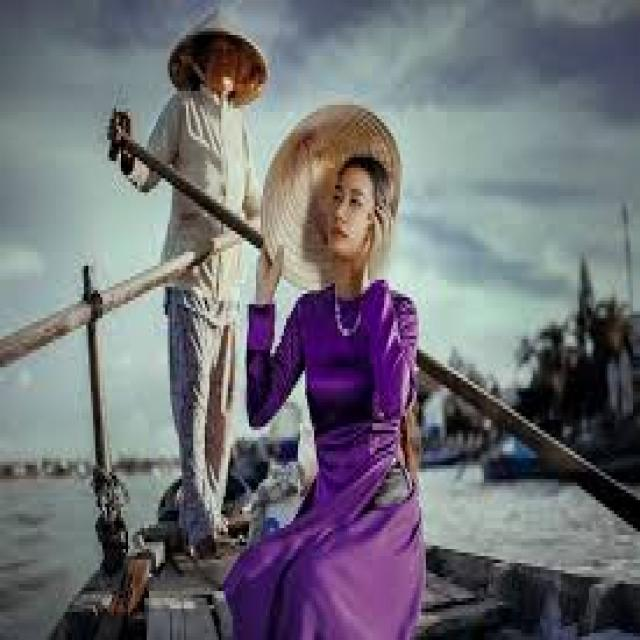Edited images: (95, 0, 462, 640)
